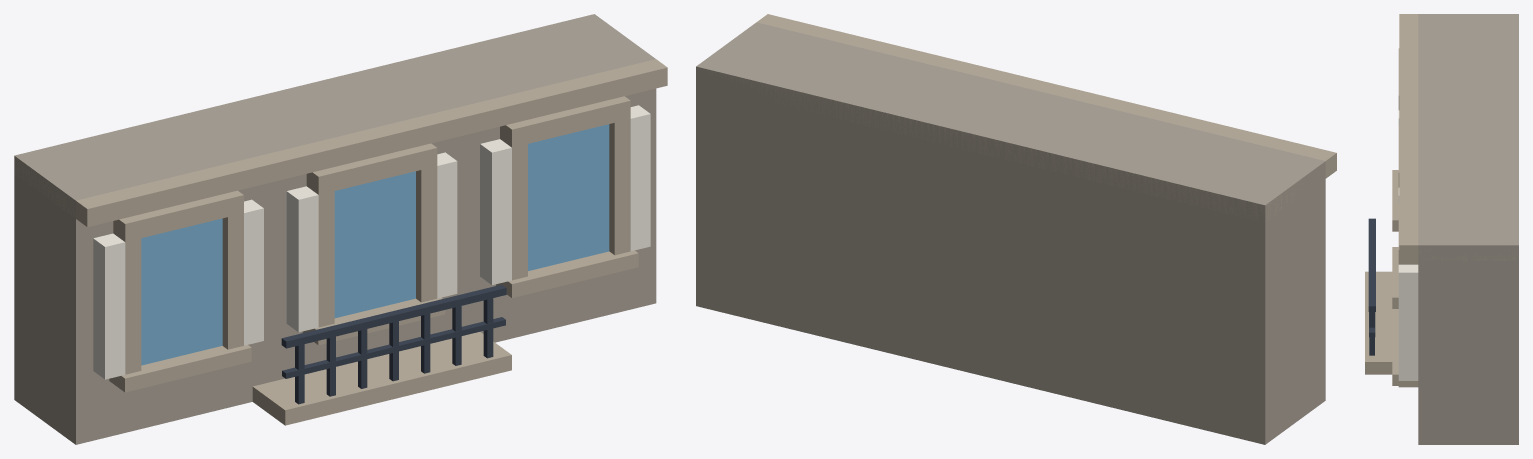
The model's file is cittaTortoraPianoA.glb.
3 views of the same model, side by side, from view 1: azimuth 30°, elevation 25°; view 2: azimuth 150°, elevation 25°; view 3: azimuth 270°, elevation 25° (orthographic). The views are drawn at different scales.
Parts seen in each view (by area): view 1: cittaTortoraPianoA_cittaTortora, cittaTortoraPianoA_stone, cittaTortoraPianoA_glass, cittaTortoraPianoA_white, cittaTortoraPianoA_steelDark; view 2: cittaTortoraPianoA_cittaTortora, cittaTortoraPianoA_stone; view 3: cittaTortoraPianoA_cittaTortora, cittaTortoraPianoA_stone, cittaTortoraPianoA_white, cittaTortoraPianoA_steelDark.
Part boxes in pixels (<box>): cittaTortoraPianoA_cittaTortora: <box>14,14,656,444</box>; cittaTortoraPianoA_stone: <box>14,59,667,425</box>; cittaTortoraPianoA_glass: <box>141,124,609,365</box>; cittaTortoraPianoA_white: <box>93,105,650,379</box>; cittaTortoraPianoA_steelDark: <box>281,284,506,404</box>; cittaTortoraPianoA_cittaTortora: <box>696,22,1325,444</box>; cittaTortoraPianoA_stone: <box>698,14,1336,222</box>; cittaTortoraPianoA_cittaTortora: <box>1418,14,1518,444</box>; cittaTortoraPianoA_stone: <box>1365,14,1517,387</box>; cittaTortoraPianoA_white: <box>1398,110,1418,380</box>; cittaTortoraPianoA_steelDark: <box>1368,218,1375,355</box>.
Bounding box in the file's own units: 8.7 × 3.5 × 2.44.
